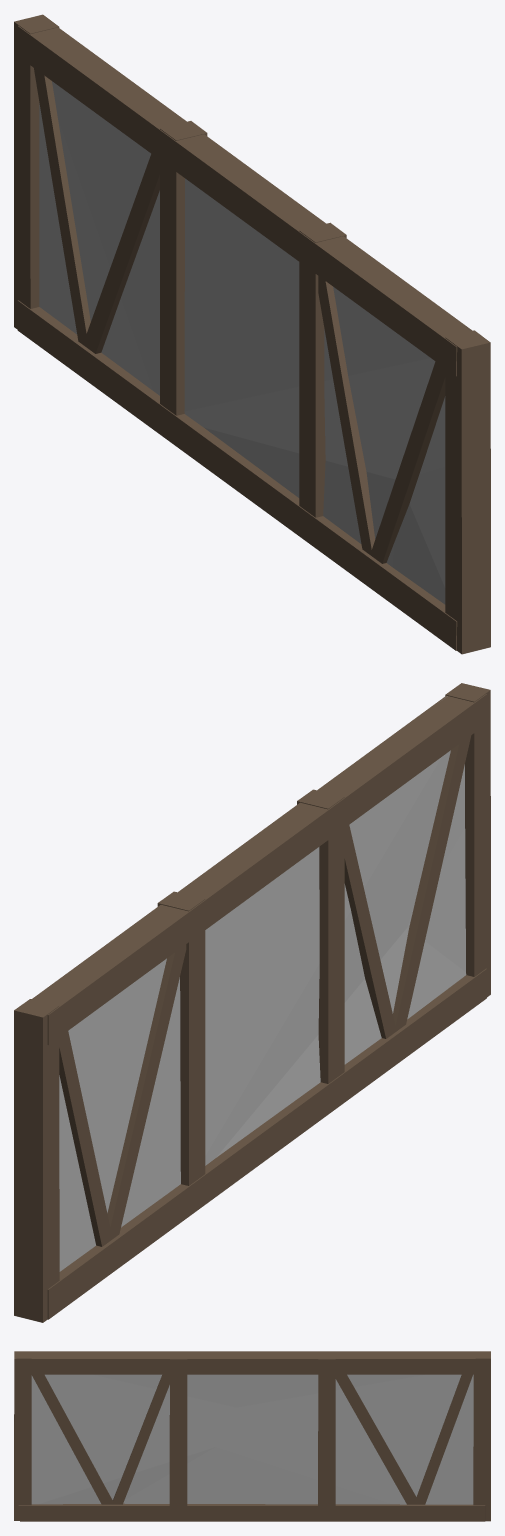
The model's file is EA03_Village_Hut_Wall_Front_04h.glb.
3 renders of one model, top to bottom at view 1: azimuth 30°, elevation 25°; view 2: azimuth 150°, elevation 25°; view 3: azimuth 270°, elevation 25°, orthographic. The views are drawn at different scales.
Visible parts, largest first — view 1: EA03_Village_Hut_Wall_Front_04h; view 2: EA03_Village_Hut_Wall_Front_04h; view 3: EA03_Village_Hut_Wall_Front_04h.
Boxes of the visible parts, x1,y1,x2,y2 form: EA03_Village_Hut_Wall_Front_04h: (14, 14, 490, 654); EA03_Village_Hut_Wall_Front_04h: (14, 683, 490, 1322); EA03_Village_Hut_Wall_Front_04h: (14, 1351, 490, 1521).
Size of the model in its own units: 0.3292 by 2.98 by 7.93.
Materials: 1 (1 with a texture image).
